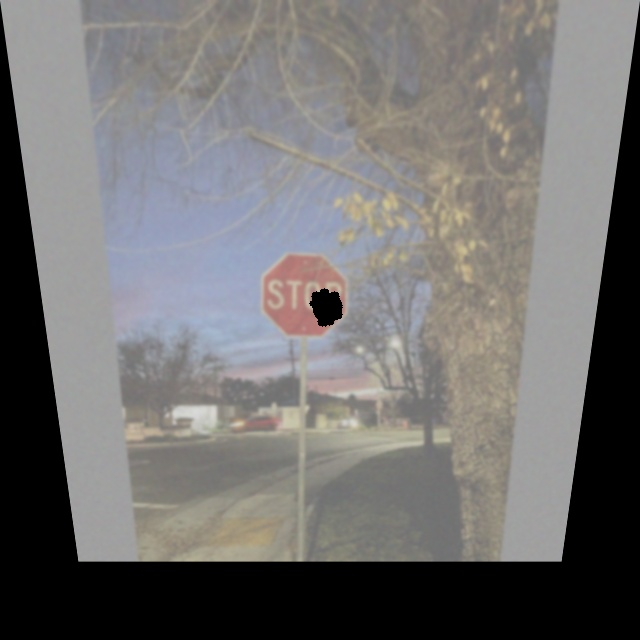Stop: (259, 254, 348, 339)
